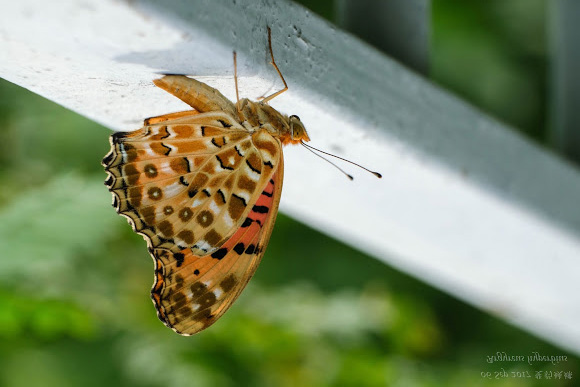Argyreus hyperbius: (97, 24, 381, 335)
butterfly: (99, 26, 383, 337)
